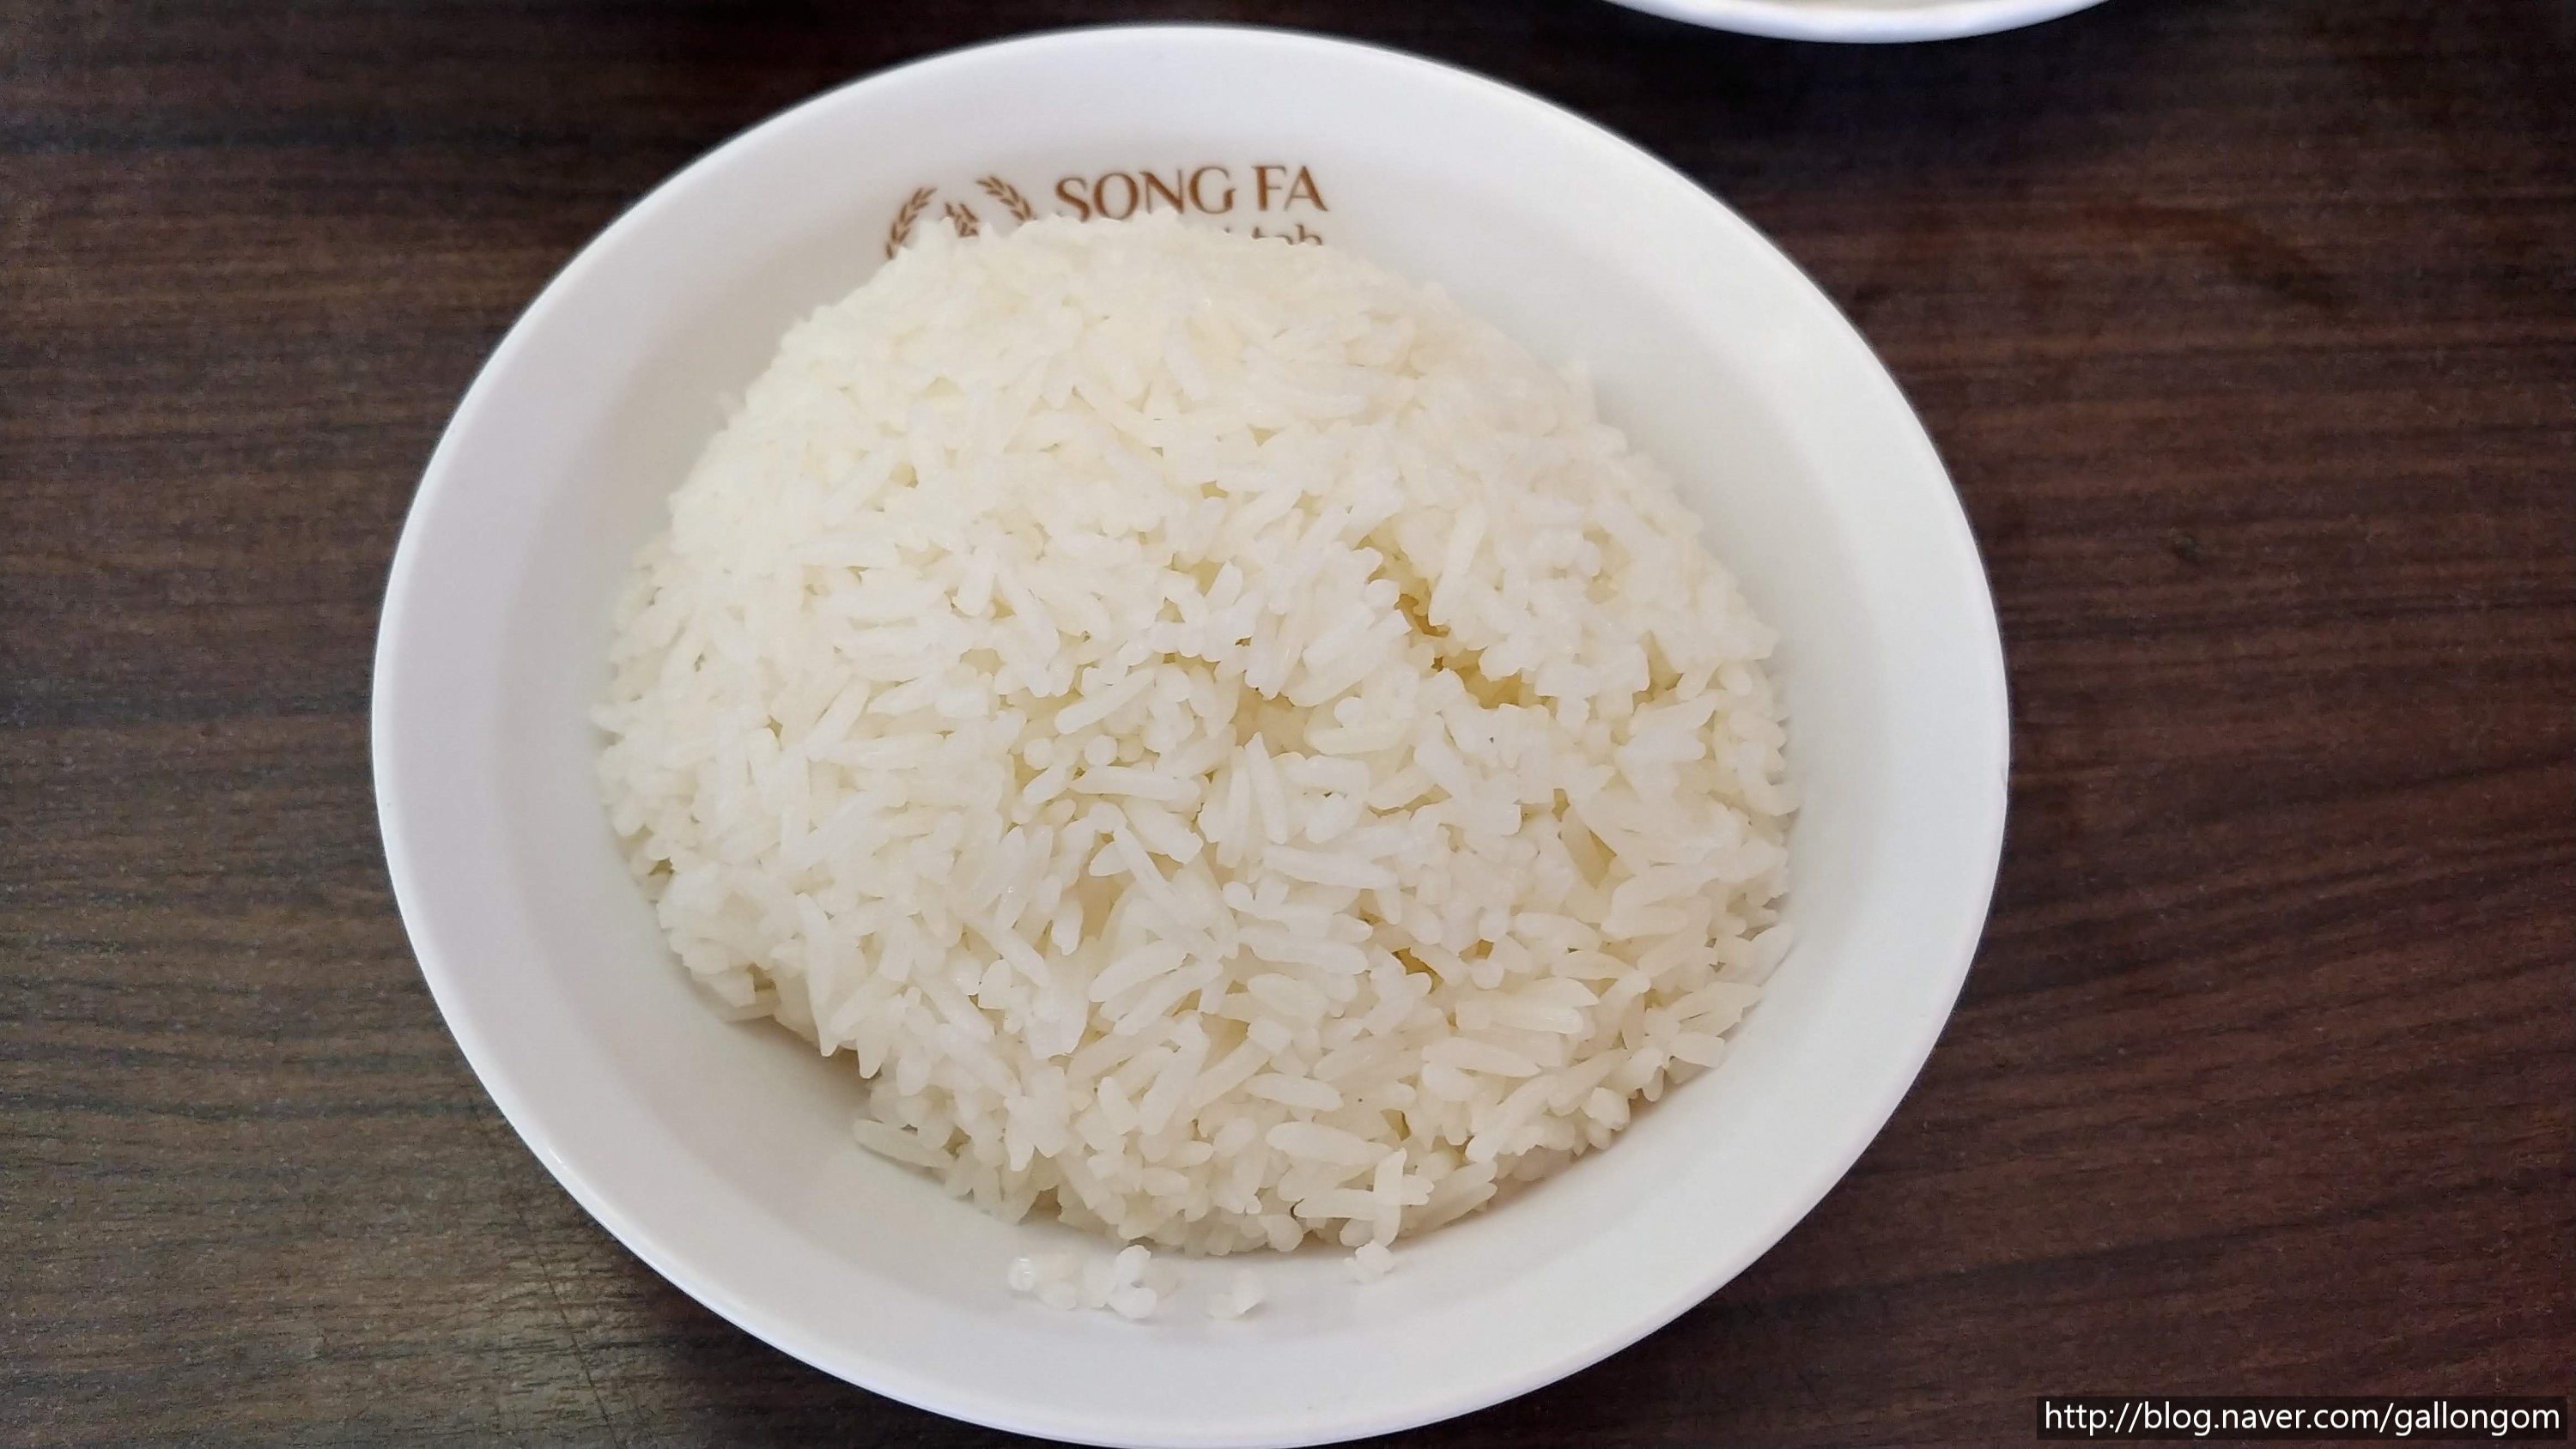plain rice: (646, 202, 1776, 1106)
